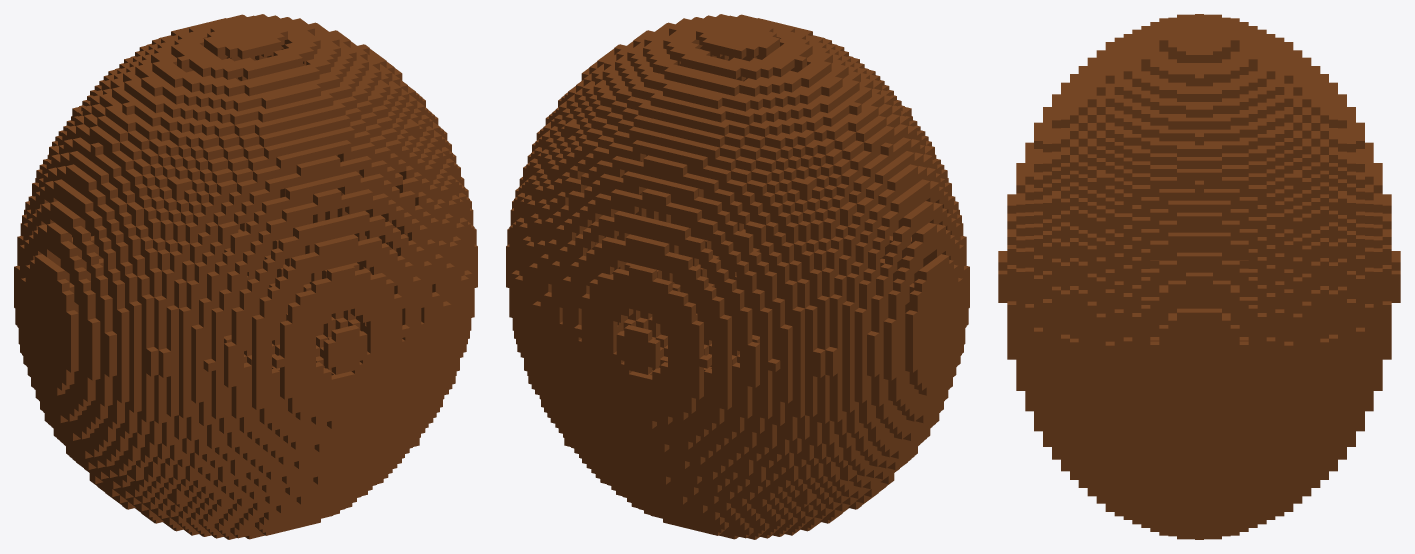
The model's file is label5.obj.
3 views of the same model, side by side, from view 1: azimuth 30°, elevation 25°; view 2: azimuth 150°, elevation 25°; view 3: azimuth 270°, elevation 25° (orthographic).
Size of the model in its own units: 51 by 59 by 45.
